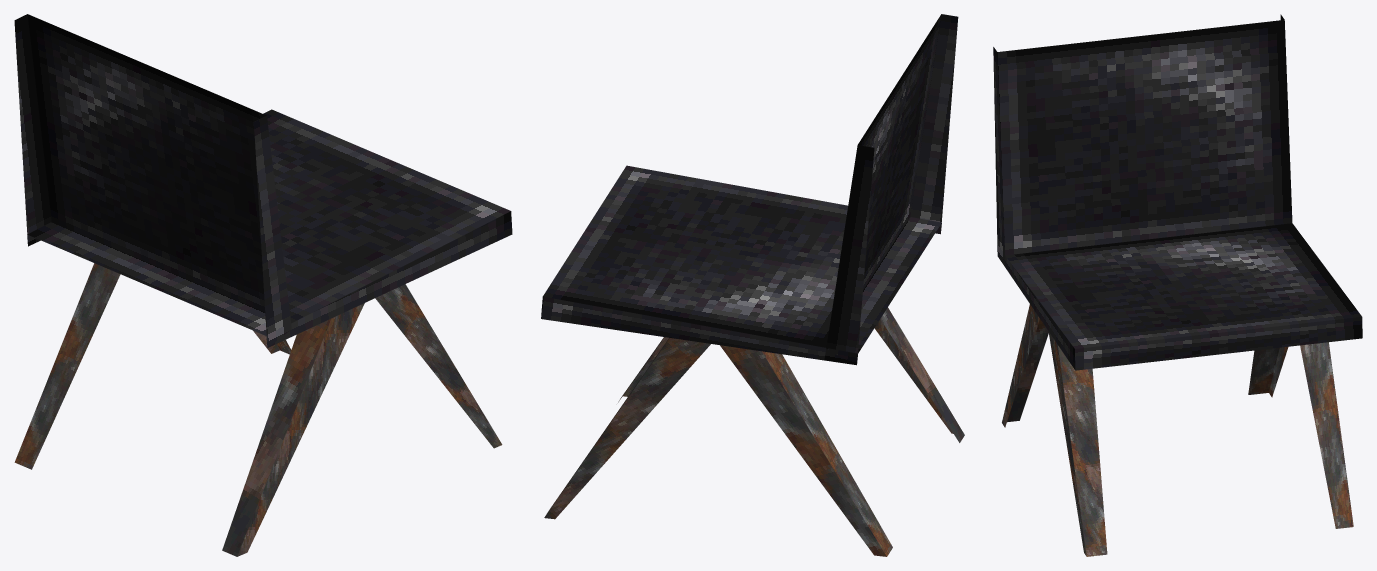
Rendered from black_chair.glb.
3 renders of one model, left to right at view 1: azimuth 30°, elevation 25°; view 2: azimuth 150°, elevation 25°; view 3: azimuth 270°, elevation 25°, orthographic. The views are drawn at different scales.
Parts seen in each view (by area): view 1: Object; view 2: Object; view 3: Object.
Boxes of the visible parts, box(x1,y1,x2,y2) form: Object: box(14, 14, 512, 556); Object: box(541, 14, 964, 556); Object: box(993, 14, 1362, 556).
Size of the model in its own units: 0.8294 by 0.8928 by 0.7815.
Materials: 2 (2 with a texture image).
